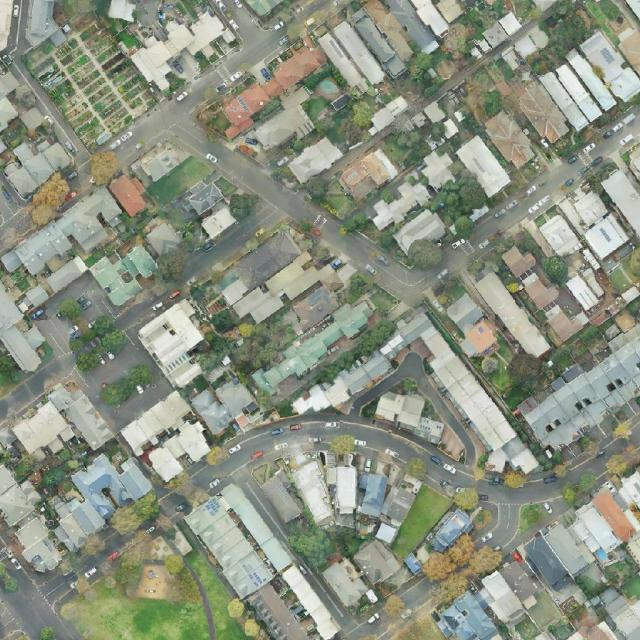building: (392, 310, 540, 491), (182, 480, 343, 640), (291, 307, 442, 431), (516, 322, 640, 459), (278, 444, 418, 554), (0, 185, 130, 296), (250, 293, 378, 401), (210, 39, 331, 140), (212, 224, 321, 333), (126, 0, 233, 96), (118, 389, 218, 489), (364, 376, 480, 462), (135, 297, 227, 391), (0, 460, 65, 579), (473, 270, 552, 362), (69, 441, 154, 525), (188, 368, 271, 452), (518, 515, 598, 595), (557, 181, 631, 263), (247, 85, 327, 160), (316, 18, 389, 99), (87, 233, 164, 309), (46, 377, 118, 453), (0, 282, 56, 377), (345, 7, 411, 80), (539, 59, 603, 133), (10, 399, 79, 467), (498, 240, 563, 311), (440, 290, 502, 364), (42, 488, 108, 554), (177, 175, 241, 241), (366, 174, 434, 235), (512, 79, 573, 146), (335, 145, 399, 204), (454, 134, 512, 198), (482, 108, 539, 172), (564, 46, 618, 113), (383, 0, 442, 57), (285, 133, 344, 187), (391, 206, 448, 259), (350, 535, 404, 589), (321, 554, 373, 609), (287, 283, 342, 334), (422, 505, 477, 556), (600, 168, 640, 237), (409, 100, 461, 152), (281, 262, 344, 301), (565, 266, 612, 317), (497, 553, 544, 604), (542, 295, 591, 343), (137, 213, 185, 261), (259, 474, 304, 525), (538, 213, 583, 262), (136, 139, 183, 184), (106, 172, 151, 219), (415, 146, 460, 192), (363, 94, 411, 137), (521, 588, 564, 632), (45, 254, 89, 294), (29, 0, 67, 46), (481, 11, 523, 50), (512, 24, 552, 63), (415, 0, 451, 40), (402, 541, 440, 576), (0, 71, 19, 131), (619, 26, 640, 74), (590, 302, 620, 327), (19, 106, 46, 133), (436, 0, 466, 24), (24, 284, 49, 309), (245, 1, 283, 16), (0, 425, 18, 449), (629, 146, 640, 181), (219, 29, 237, 46), (532, 1, 558, 11), (532, 630, 556, 639), (413, 113, 424, 120)
greenland: (483, 309, 610, 412), (44, 282, 132, 375), (416, 521, 508, 606), (308, 314, 399, 396), (296, 73, 384, 157), (425, 166, 501, 241), (389, 484, 454, 566), (434, 0, 500, 72), (103, 526, 162, 599), (144, 151, 214, 211), (218, 314, 282, 379), (20, 170, 80, 231), (301, 167, 361, 223), (36, 445, 91, 504), (97, 360, 157, 411), (106, 490, 166, 541), (181, 318, 235, 374), (286, 517, 340, 571), (378, 120, 432, 174), (402, 47, 452, 99), (163, 551, 202, 606), (557, 467, 604, 511), (166, 468, 212, 512), (222, 595, 266, 640), (601, 439, 640, 484), (0, 442, 38, 483), (508, 498, 549, 535), (154, 247, 193, 285), (535, 444, 574, 482), (538, 249, 575, 287), (337, 268, 375, 304), (0, 346, 24, 396), (88, 150, 121, 186), (336, 210, 372, 243), (470, 86, 502, 123), (570, 572, 608, 603), (412, 239, 445, 274), (304, 64, 347, 90), (249, 96, 283, 123), (452, 487, 482, 515), (330, 434, 367, 456), (0, 560, 22, 596), (477, 353, 508, 378), (402, 454, 430, 481), (380, 591, 407, 619), (230, 194, 259, 220), (574, 435, 602, 458), (491, 471, 526, 489), (203, 444, 228, 469), (374, 228, 399, 252), (378, 187, 397, 206), (612, 422, 632, 439), (41, 626, 56, 640)
metalled_road: (193, 143, 441, 326), (94, 0, 292, 164), (186, 421, 478, 497), (350, 338, 504, 463), (0, 312, 92, 441), (173, 194, 289, 294), (427, 186, 542, 277), (6, 57, 92, 166), (340, 575, 445, 640), (227, 465, 299, 544), (95, 363, 175, 434), (519, 148, 591, 221), (74, 338, 150, 400), (465, 479, 524, 550), (561, 440, 634, 495), (185, 560, 220, 640), (303, 566, 349, 622), (72, 279, 120, 331), (112, 285, 158, 338), (169, 117, 216, 164), (36, 567, 83, 607), (67, 157, 99, 195), (154, 488, 188, 522), (97, 528, 128, 560), (523, 480, 560, 503), (67, 272, 97, 299), (1, 188, 19, 228), (73, 552, 105, 574), (180, 47, 203, 77)
